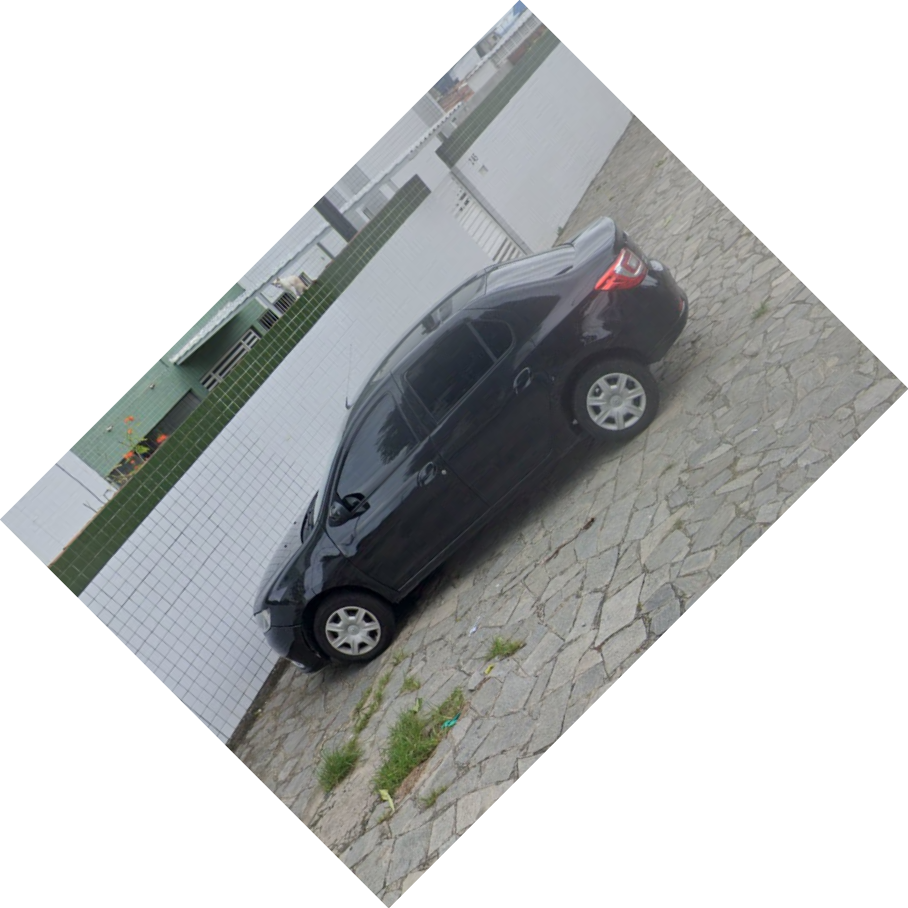car: (252, 214, 691, 676)
